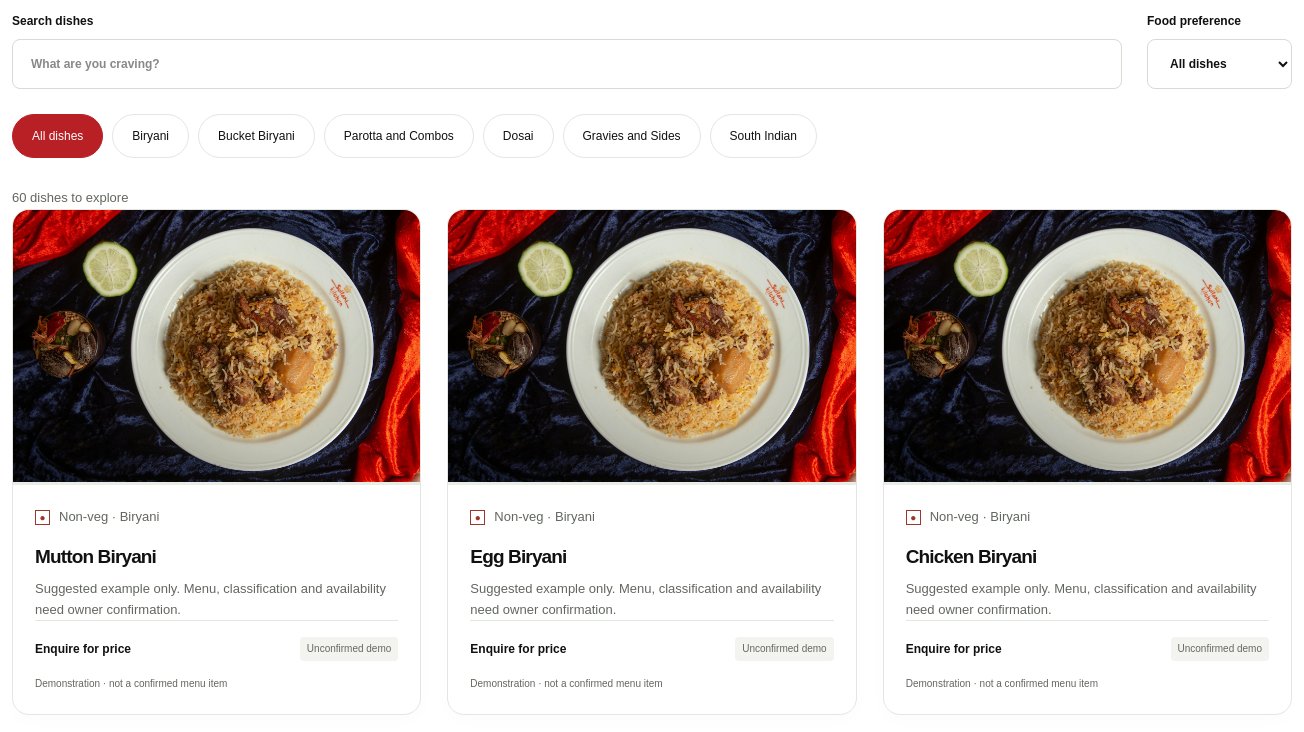
Test: public interactions › combines search and filters and resets an empty result
This screenshot has width=1304, height=732.
Step 1. Type "mutton" into the search field → coordinates (567, 64), box left=12, top=39, right=1122, bottom=89
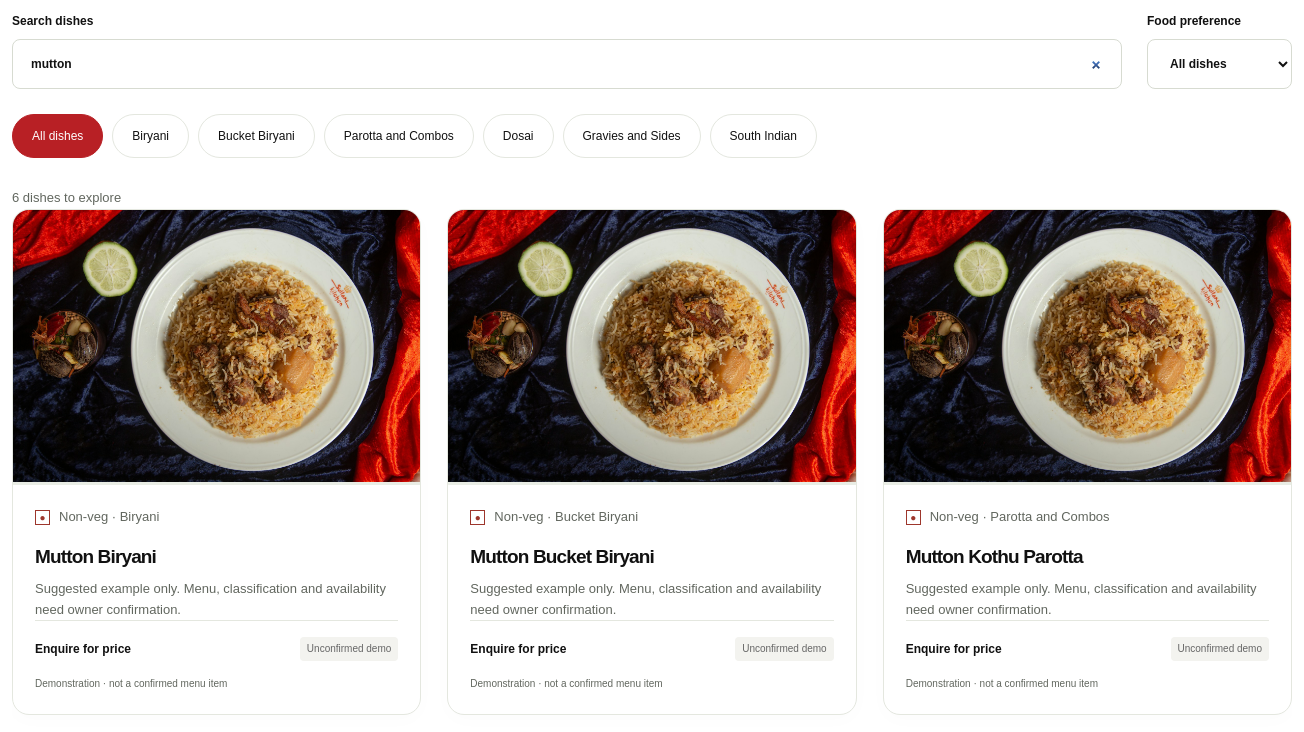
expect the text "6 dishes to explore" is shown: met, box left=12, top=190, right=121, bottom=205
Step 2. Select "Vegetarian" in the dropdown → coordinates (1220, 64), box left=1147, top=39, right=1292, bottom=89
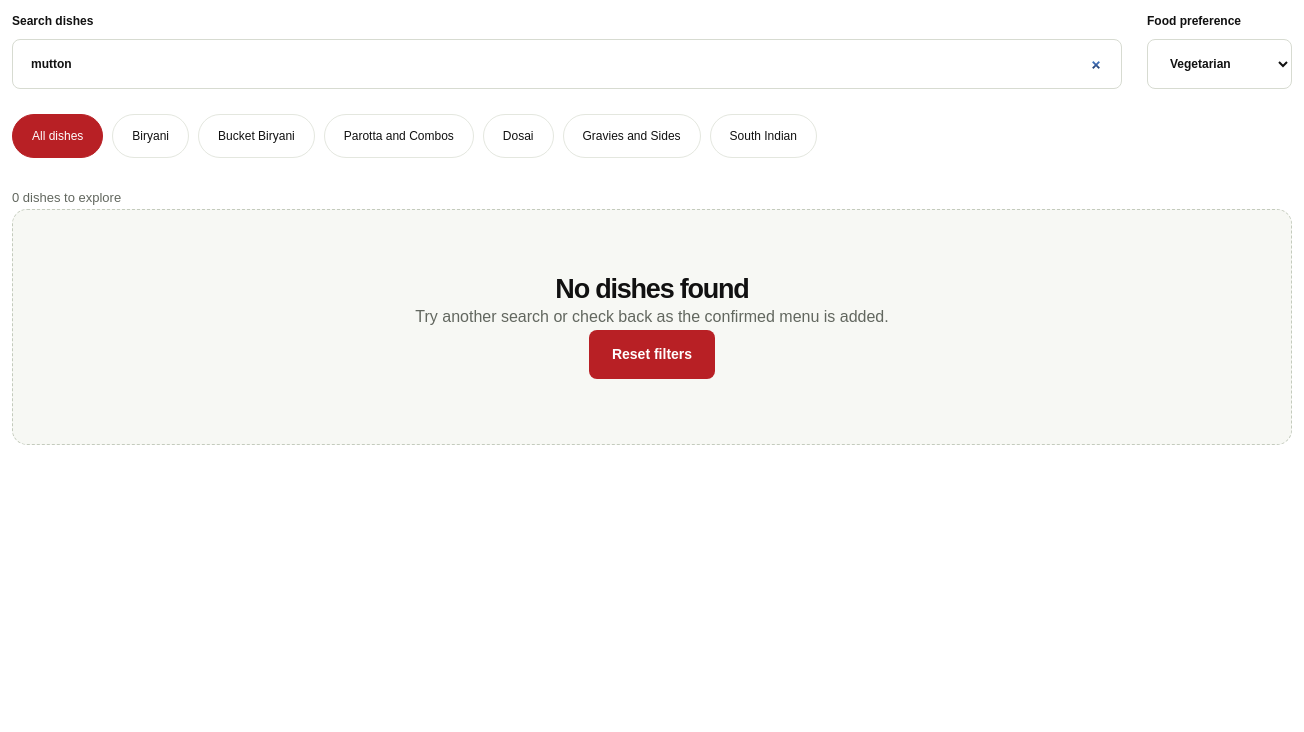
expect the heading "No dishes found" is shown: met, box left=555, top=274, right=749, bottom=304
Step 3. Click the button "Reset filters" → coordinates (652, 354), box left=589, top=330, right=715, bottom=379
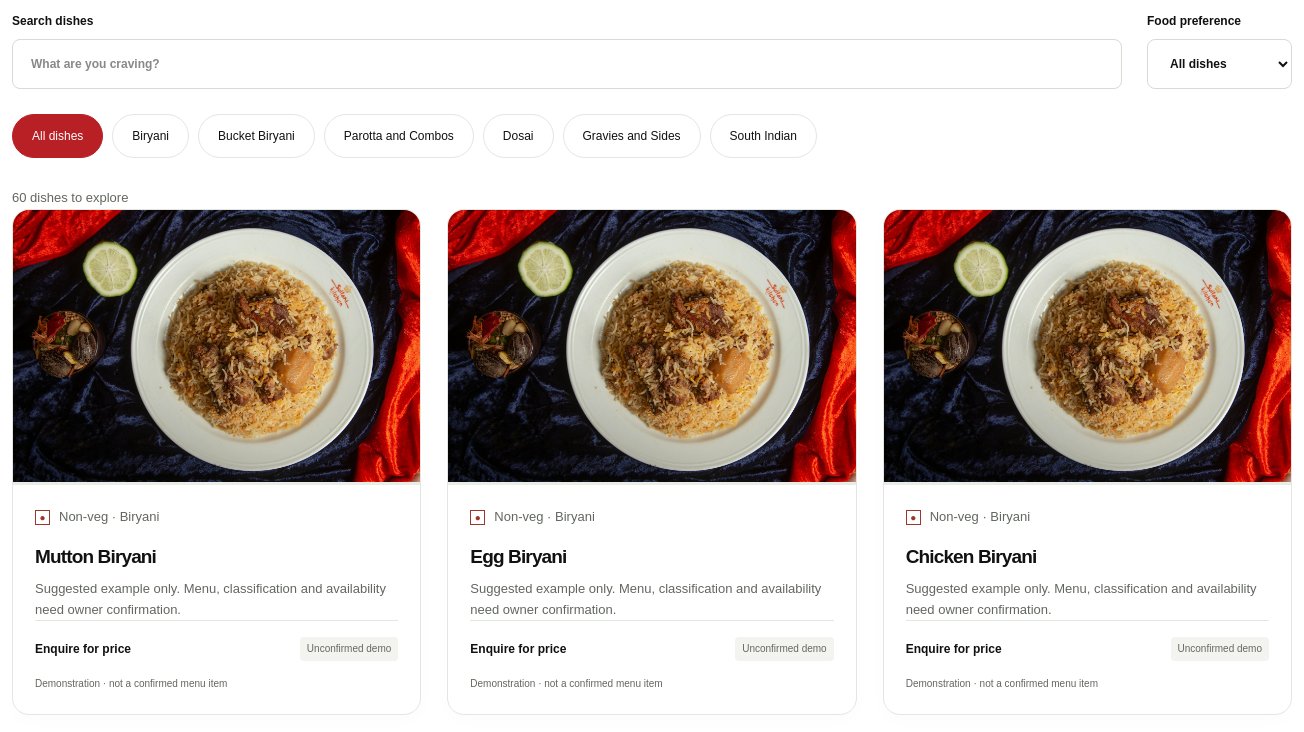
expect the text "60 dishes to explore" is shown: met, box left=12, top=190, right=128, bottom=205
